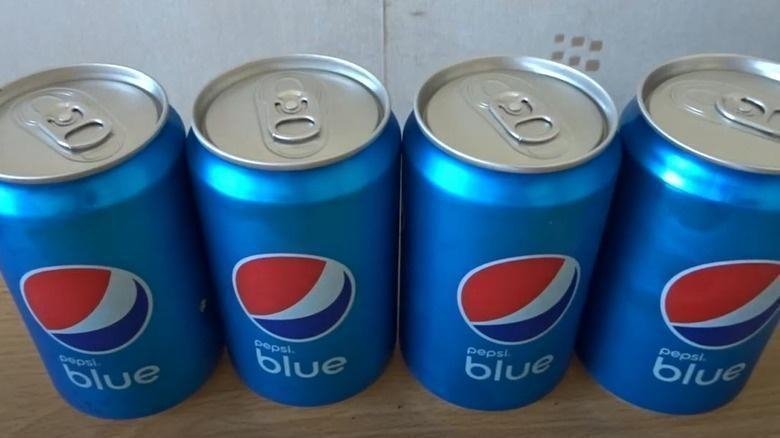tin can: (396, 52, 622, 414), (1, 61, 223, 421), (184, 50, 399, 412), (581, 49, 779, 420)
